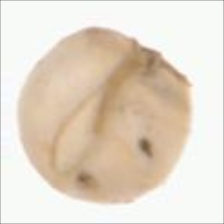L5: (51, 59, 138, 174), (123, 33, 195, 90)
L6: (16, 26, 195, 206)
